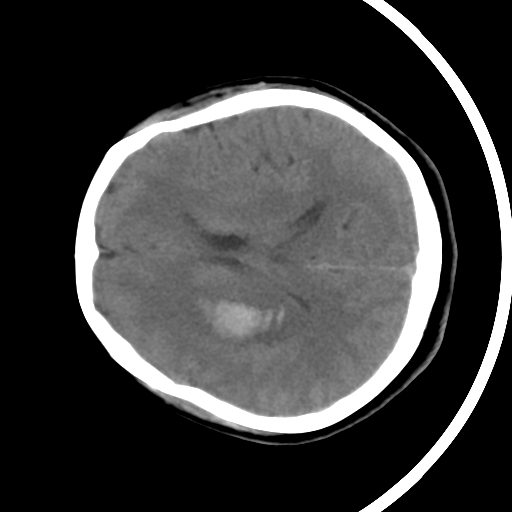a: (164, 261, 321, 362)
